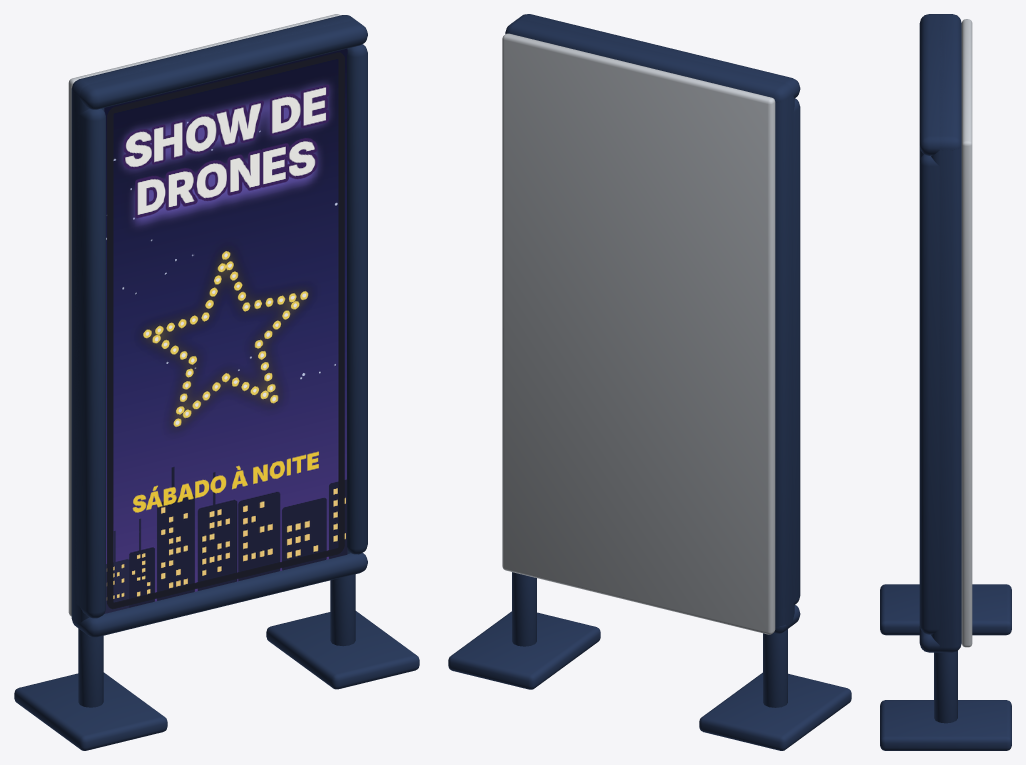
Rendered from vertical_show_drones.glb.
3 renders of one model, left to right at view 1: azimuth 30°, elevation 25°; view 2: azimuth 150°, elevation 25°; view 3: azimuth 270°, elevation 25°, orthographic. The views are drawn at different scales.
Parts seen in each view (by area): view 1: tela_troca, vertical_show_drones; view 2: vertical_show_drones; view 3: vertical_show_drones.
Part boxes in pixels (x1=…): tela_troca: x1=104, y1=48, x2=347, y2=613; vertical_show_drones: x1=14, y1=14, x2=419, y2=750; vertical_show_drones: x1=448, y1=14, x2=851, y2=750; vertical_show_drones: x1=880, y1=14, x2=1011, y2=750.
Size of the model in its own units: 1.4 by 2.51 by 0.5.
Materials: 2 (2 with a texture image).
